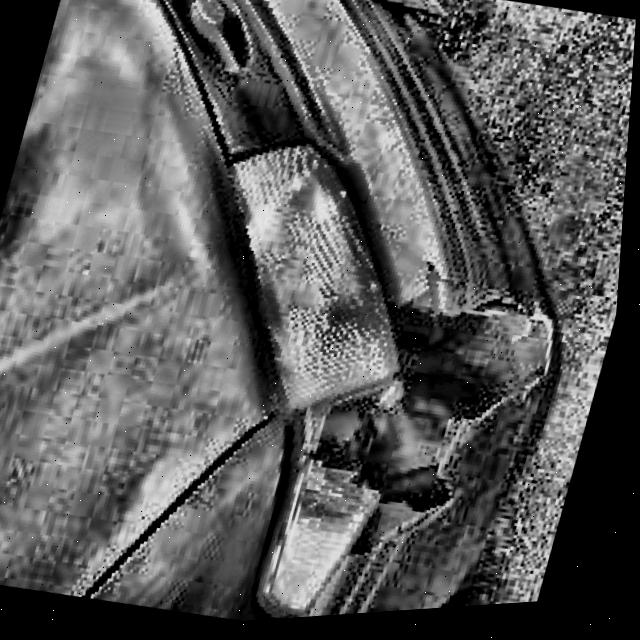bumper_dent: (337, 248, 577, 591)
